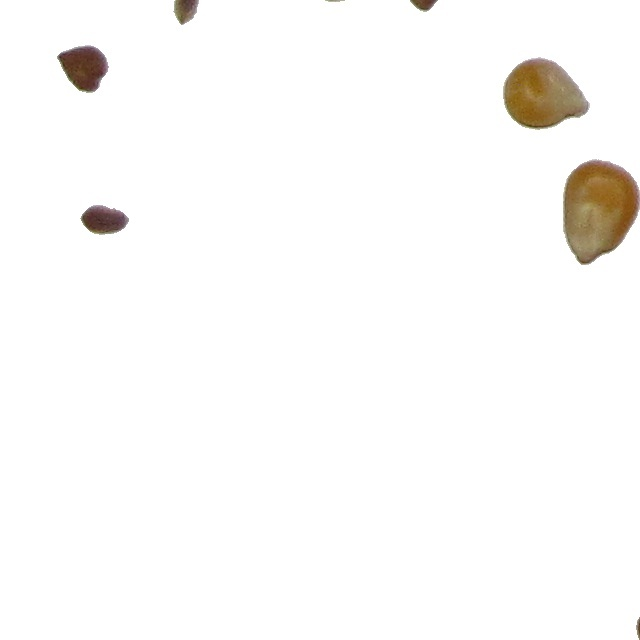buckwheat: (56, 44, 110, 94), (79, 201, 130, 233), (635, 597, 640, 640)
mais: (562, 158, 640, 266), (502, 56, 591, 131)
